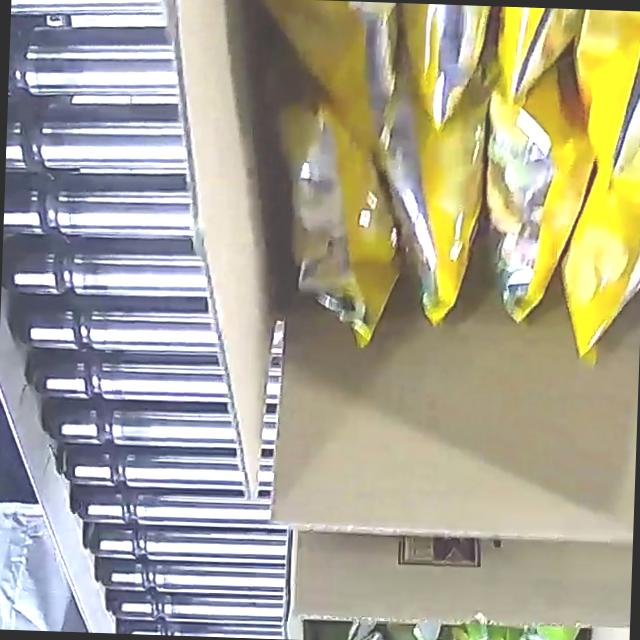salted: (274, 0, 640, 382)
yogurt: (314, 591, 630, 640)
